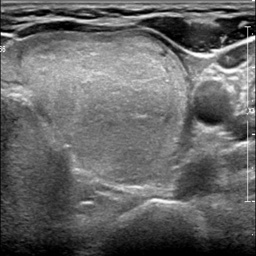mass: (7, 30, 187, 191)
